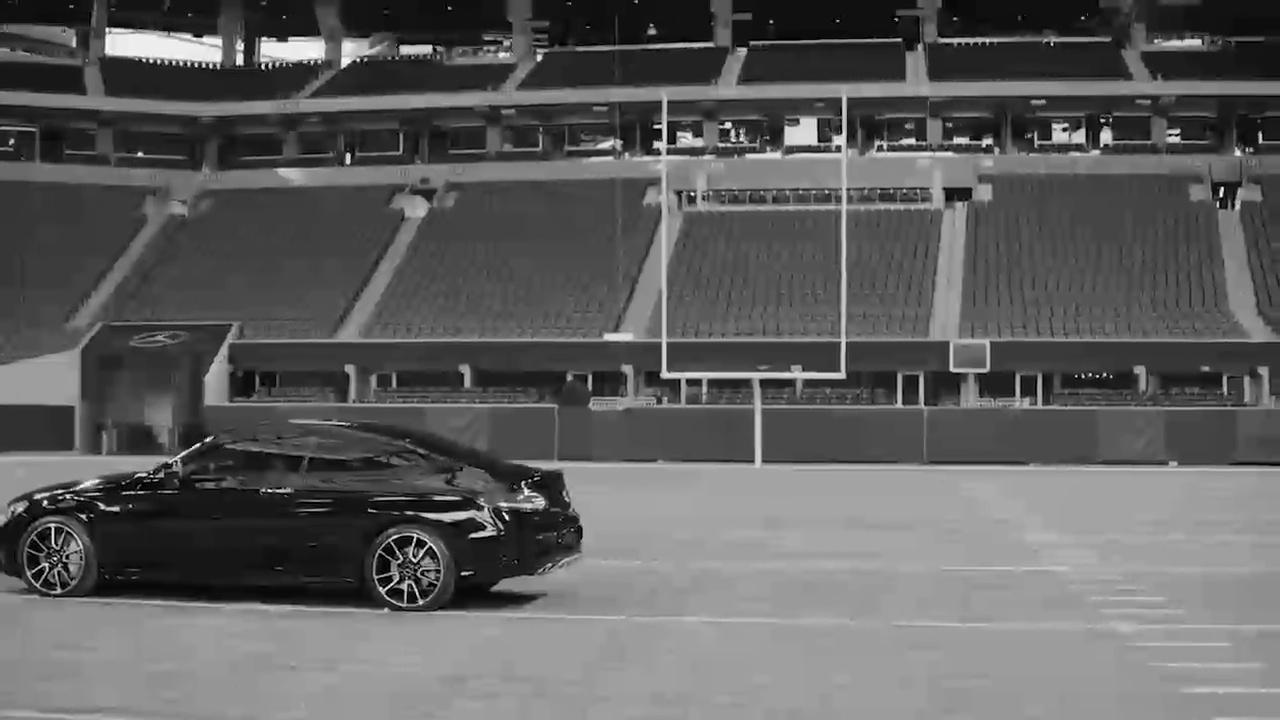car: (6, 416, 584, 614)
